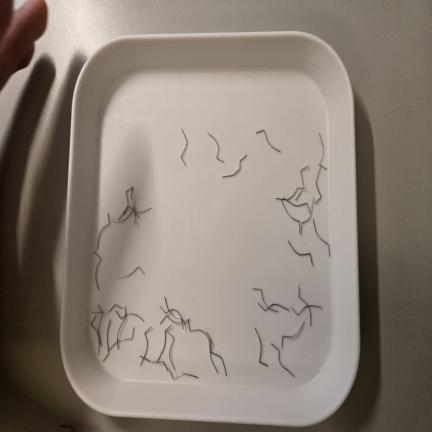probe: (271, 343, 295, 377), (313, 219, 330, 257), (281, 321, 304, 349), (288, 240, 313, 265), (222, 154, 247, 178), (256, 129, 281, 152), (255, 328, 268, 367), (97, 213, 110, 250), (208, 132, 224, 162), (116, 266, 145, 278), (169, 368, 198, 379), (94, 252, 101, 290), (180, 129, 187, 165)
